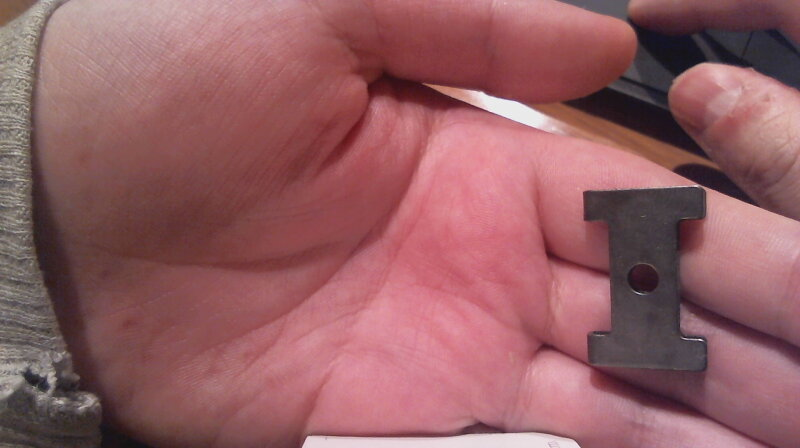O002: (580, 182, 711, 374)
